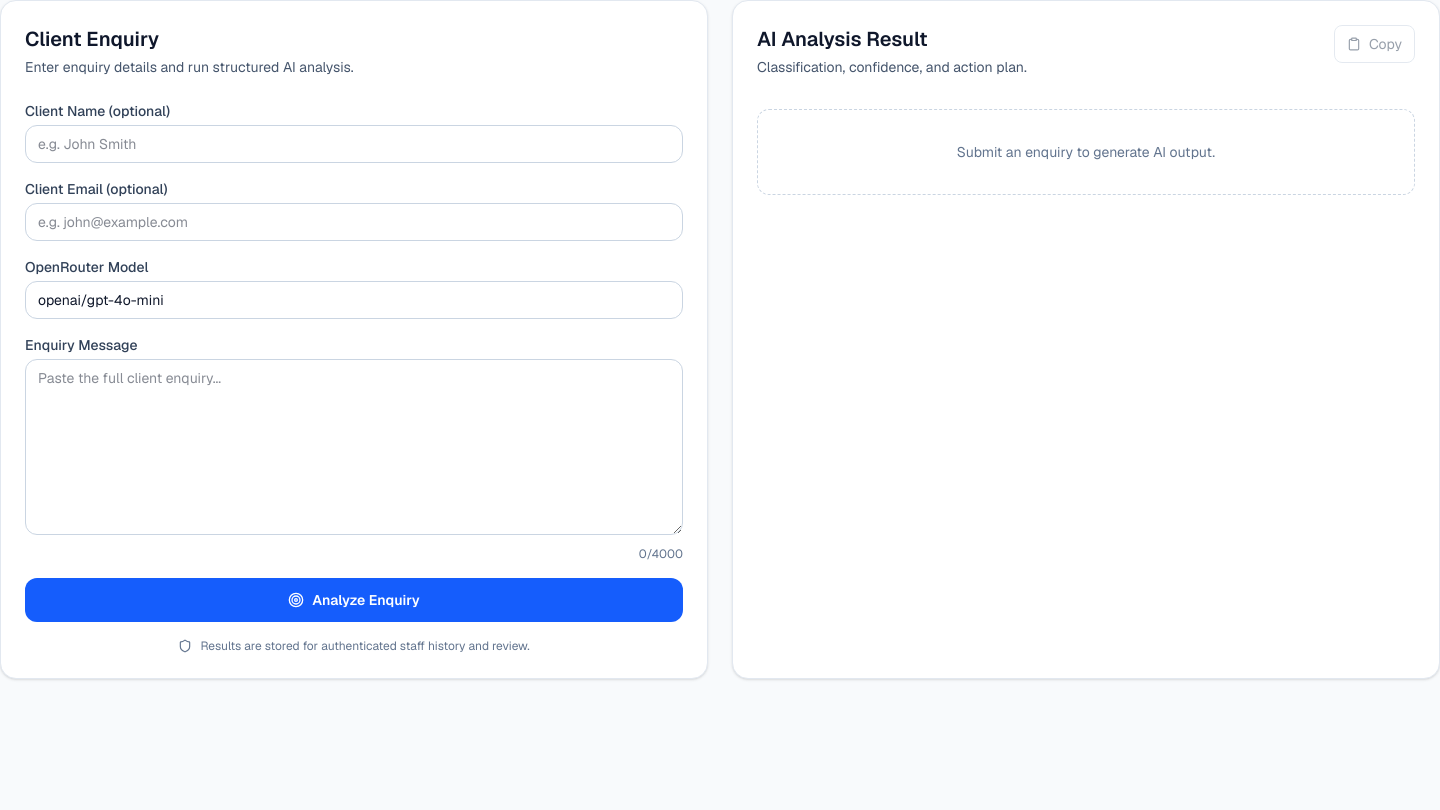
EnquiryWorkspace › renders returned AI result
Type "Please share your onboarding pricing details." into the text box with placeholder "Paste the full client enquiry..." at (354, 447), box [25,359,683,535]
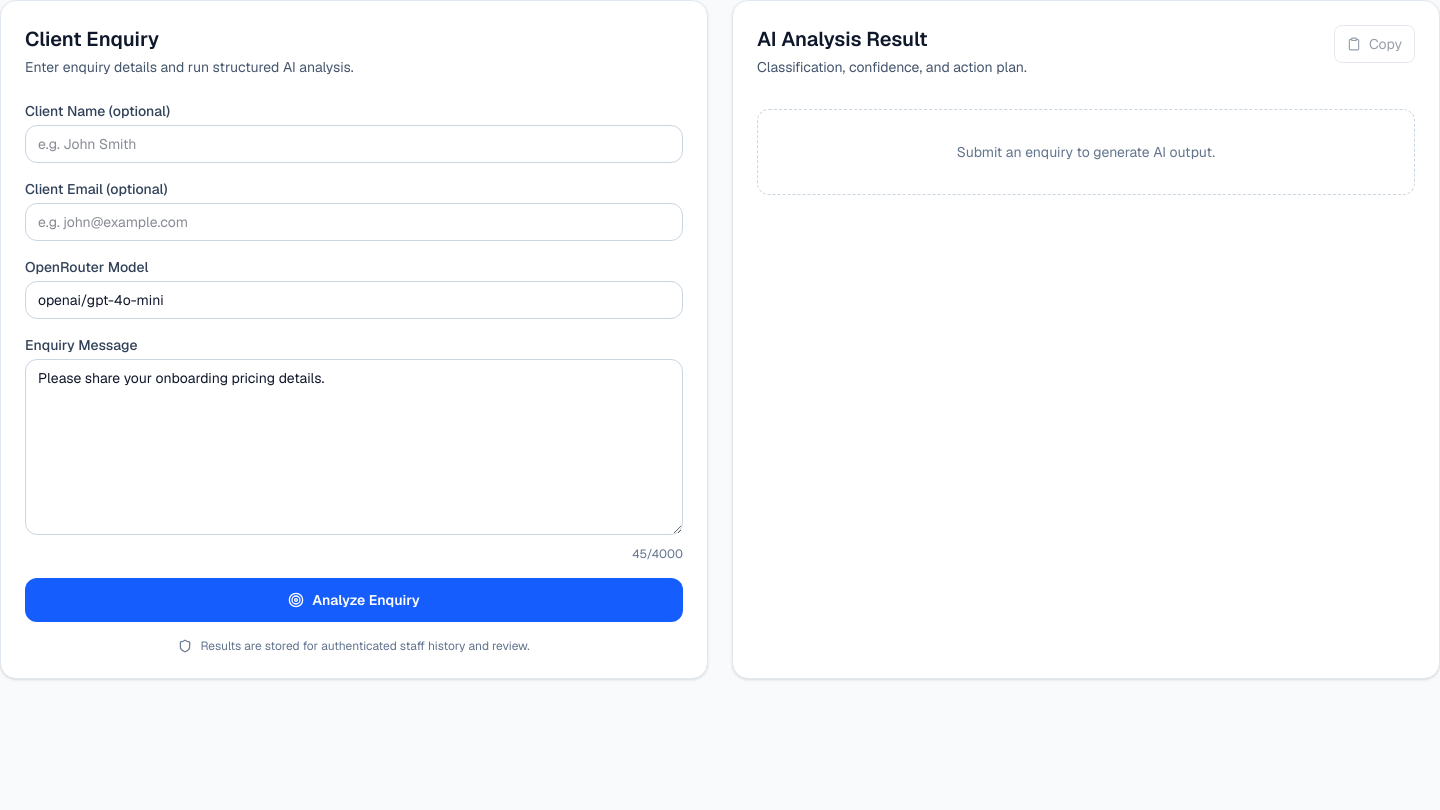
Click the button "Analyze Enquiry" at (354, 600), box [25,578,683,622]
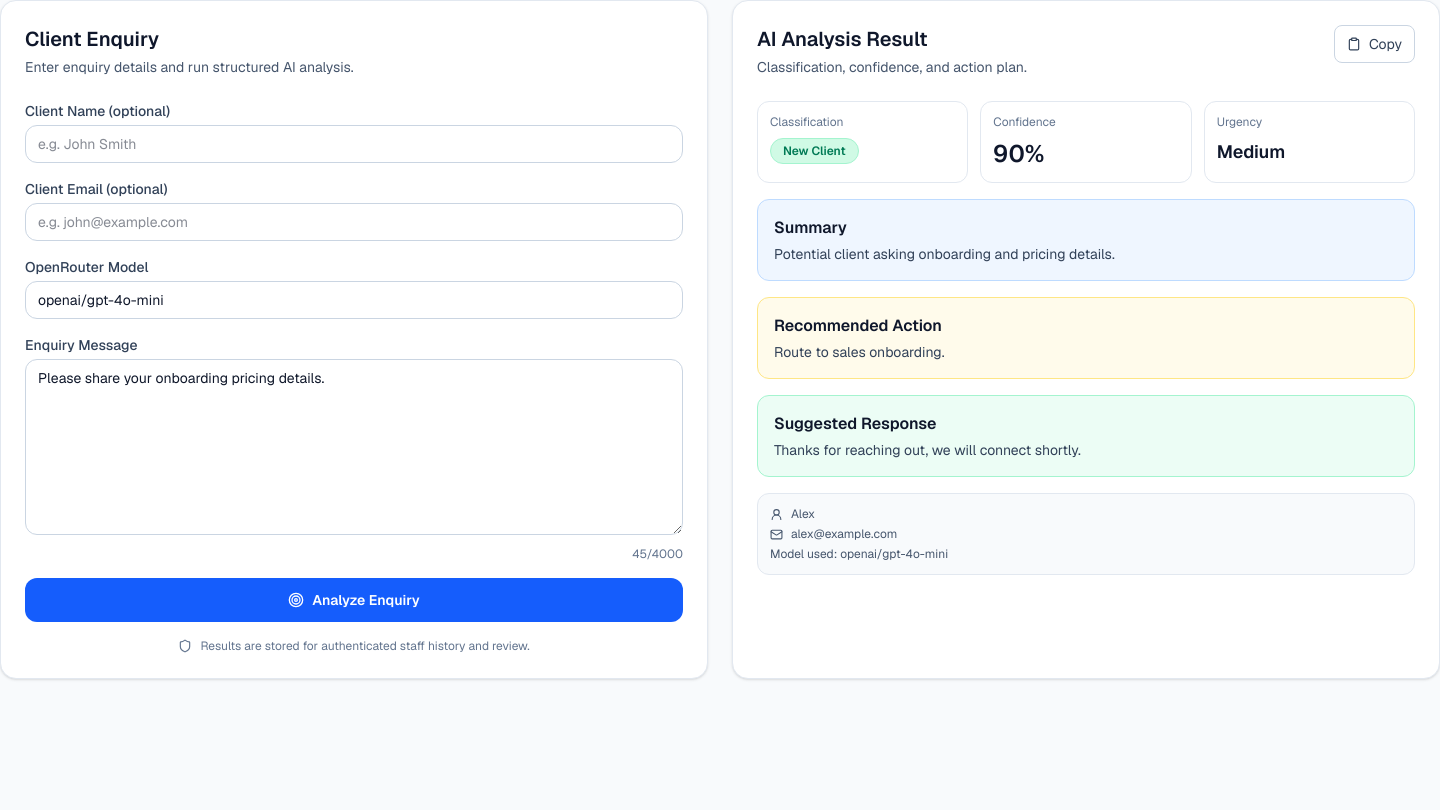
Expected: the text "Potential client asking onboarding and pricing details." is shown, [774,245,1115,263]
